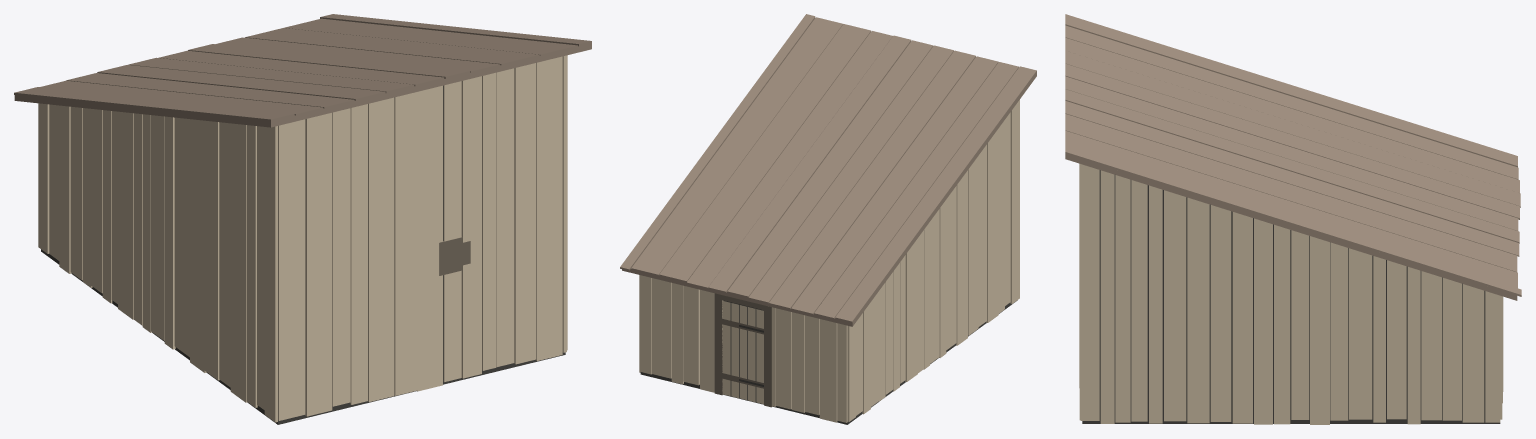
Rendered from recon_1835_west_015__inferred_1835.glb.
3 renders of one model, left to right at view 1: azimuth 30°, elevation 25°; view 2: azimuth 150°, elevation 25°; view 3: azimuth 270°, elevation 25°, orthographic. The views are drawn at different scales.
Visible parts, largest first — view 1: recon_1835_west_015__inferred_1835; view 2: recon_1835_west_015__inferred_1835; view 3: recon_1835_west_015__inferred_1835.
Boxes of the visible parts, x1,y1,x2,y2 form: recon_1835_west_015__inferred_1835: (14,14,591,424); recon_1835_west_015__inferred_1835: (620,14,1036,424); recon_1835_west_015__inferred_1835: (1065,14,1521,424).
Bounding box in the file's own units: 4.76 × 4.49 × 6.66.
